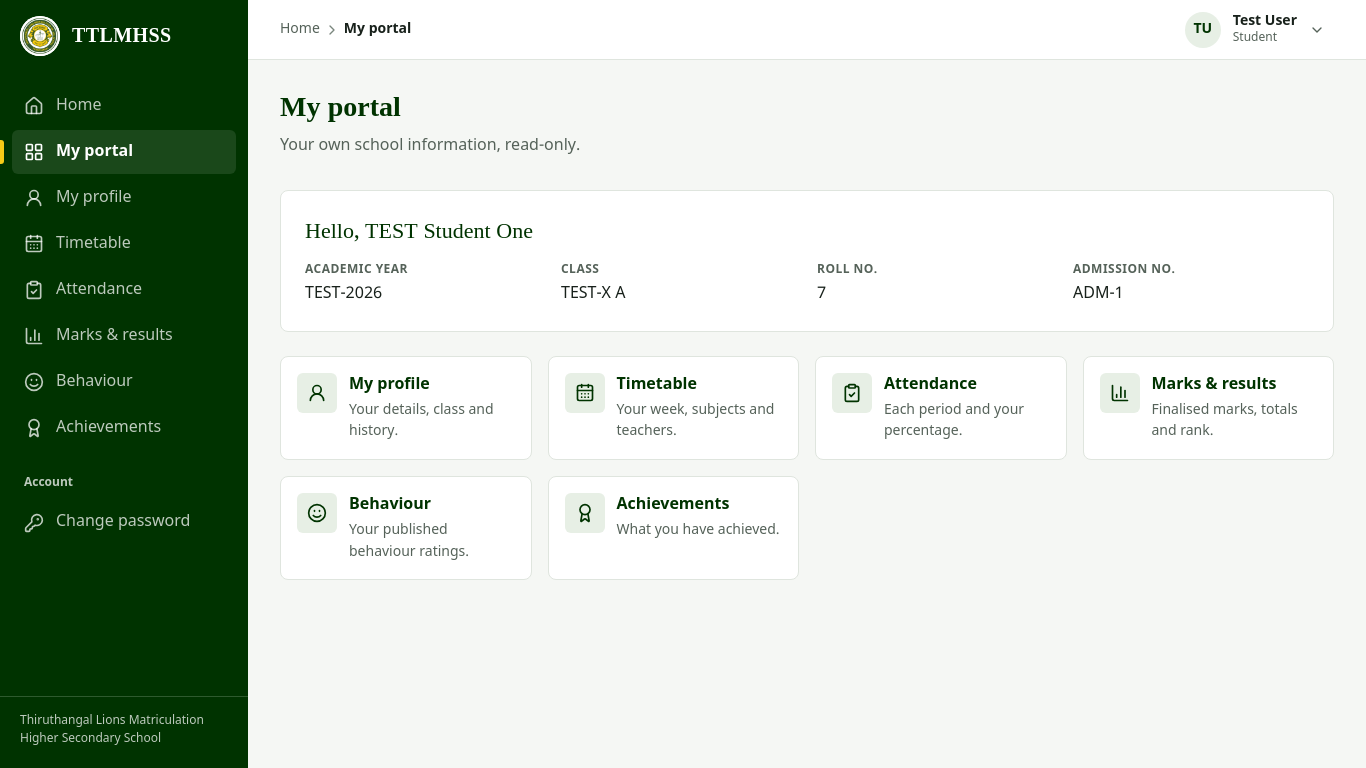
Scenario: student portal › shows the portal menu, the overview and a read-only profile with history
Expected: the text "Hello, TEST Student One" is shown, [305, 214, 533, 249]
Click the link "My profile Your details, class and history.". click: (406, 408)
box: [280, 356, 532, 460]
(page scrolled)
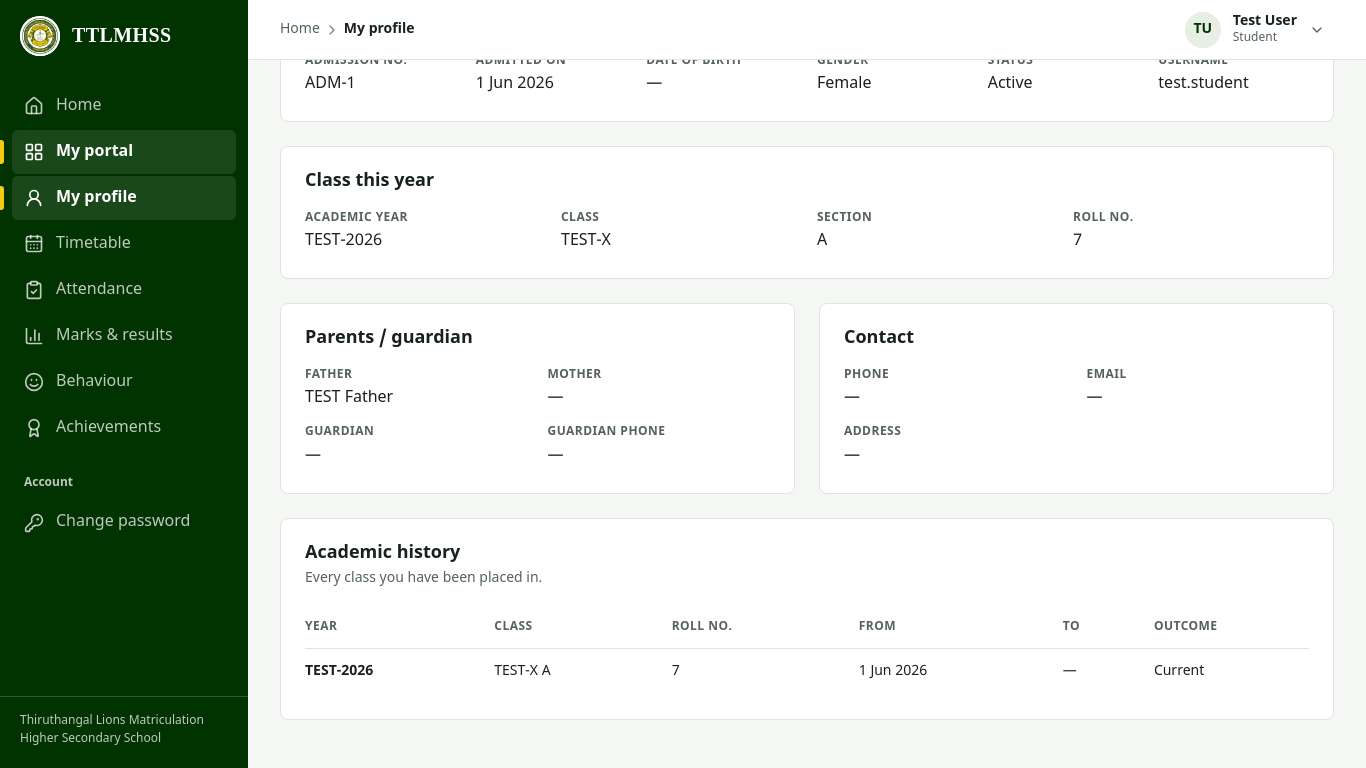
Expected: the text "ADM-1" is shown, [305, 74, 356, 94]
Now the text "Female" is shown, box [817, 74, 871, 94]
Now the table shows "TEST-X A", box [494, 663, 551, 680]
